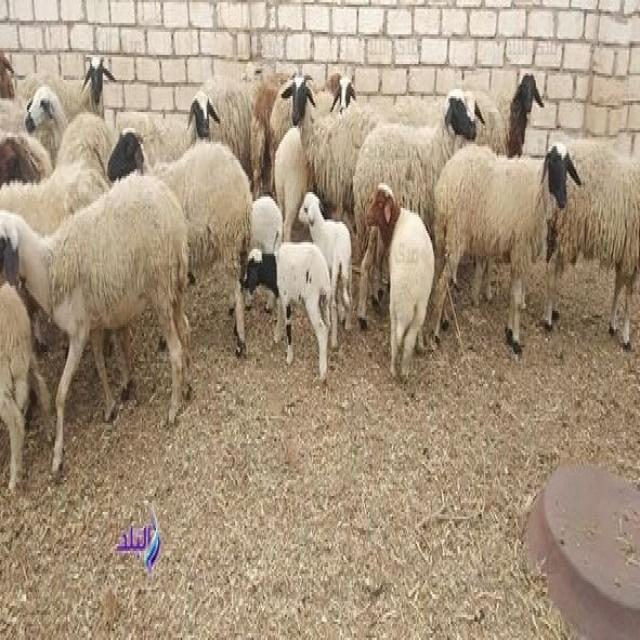sheep: (0, 204, 201, 401), (108, 114, 258, 294), (442, 148, 572, 336), (283, 54, 404, 212), (366, 95, 481, 253), (563, 120, 640, 348), (261, 37, 382, 179), (123, 76, 231, 214), (459, 64, 556, 210), (372, 176, 436, 366)
